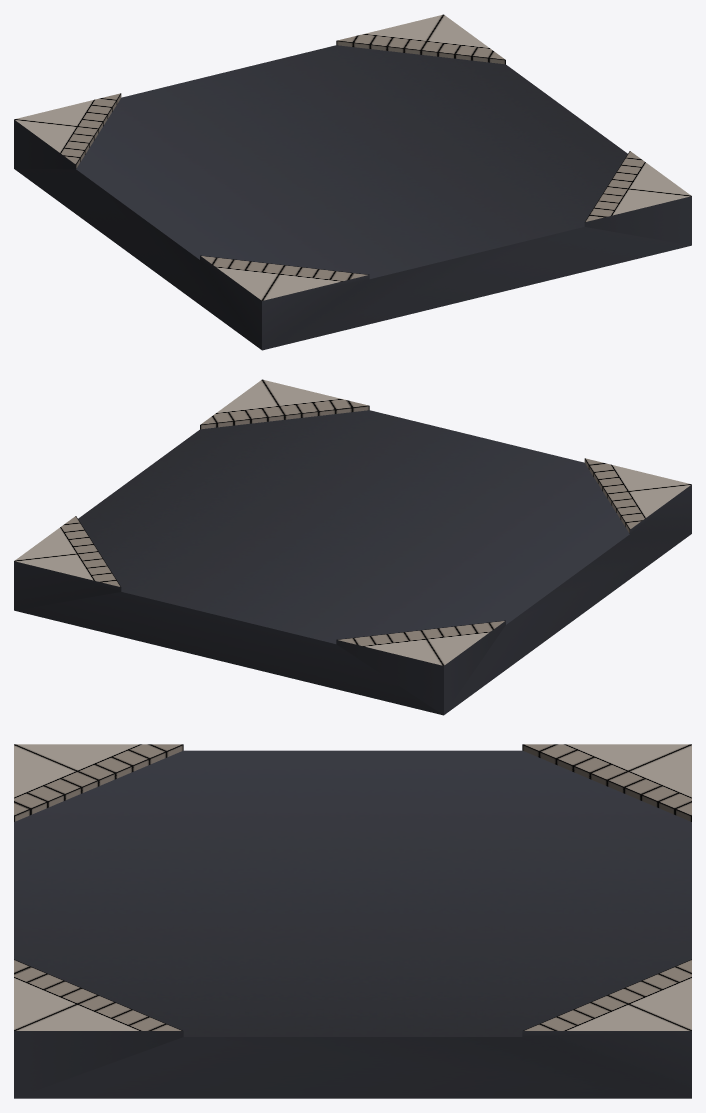
Rendered from City_Road_Crossroad.fbx.
3 renders of one model, top to bottom at view 1: azimuth 30°, elevation 25°; view 2: azimuth 150°, elevation 25°; view 3: azimuth 270°, elevation 25°, orthographic. The views are drawn at different scales.
Parts seen in each view (by area): view 1: City_Road_Crossroad; view 2: City_Road_Crossroad; view 3: City_Road_Crossroad.
Part boxes in pixels (x1,y1,x2,y2): City_Road_Crossroad: (14,14,691,350); City_Road_Crossroad: (14,379,691,715); City_Road_Crossroad: (14,744,691,1098).
Bounding box in the file's own units: 1600 × 176 × 1600.
